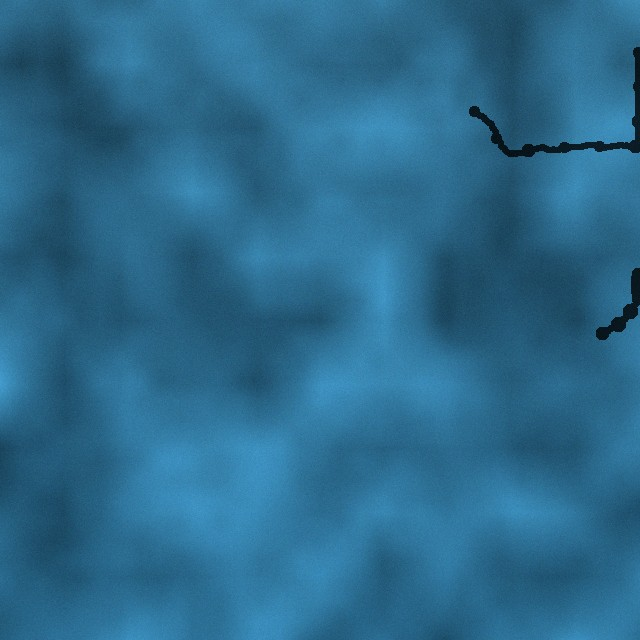crack: (468, 46, 639, 159), (595, 265, 639, 340)
